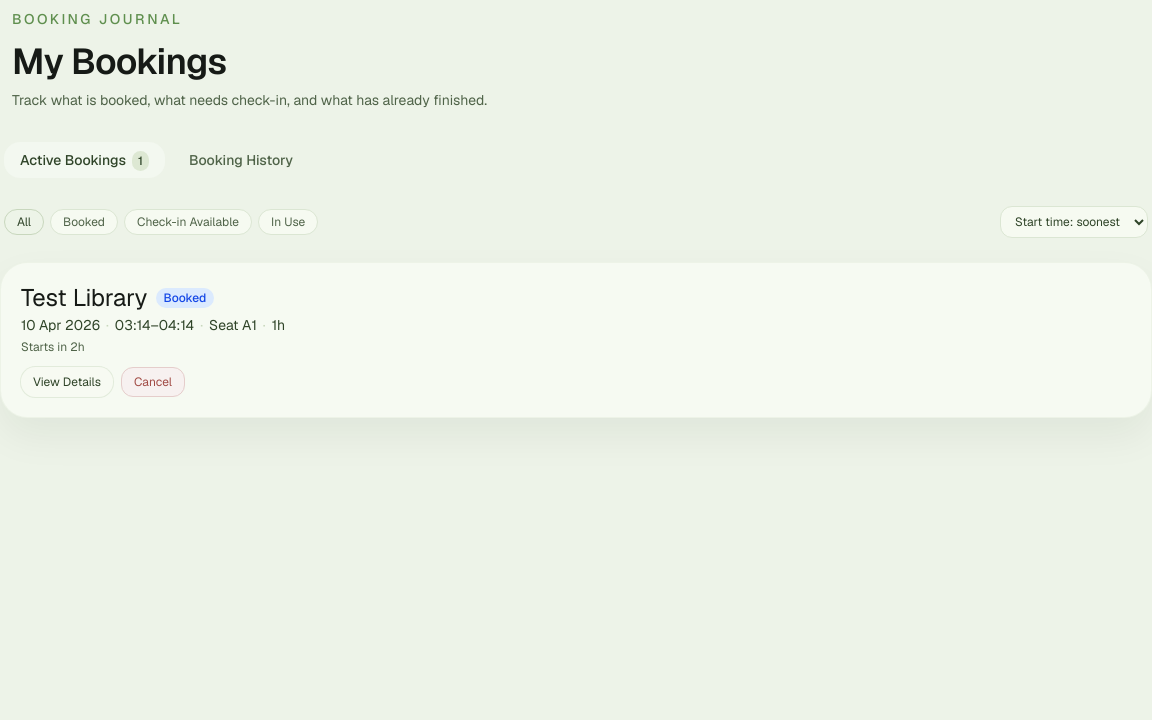
Scenario: BookingsPage › modal Close button dismisses modal
Click the button "View Details" at [67, 382], box [21,367,113,397]
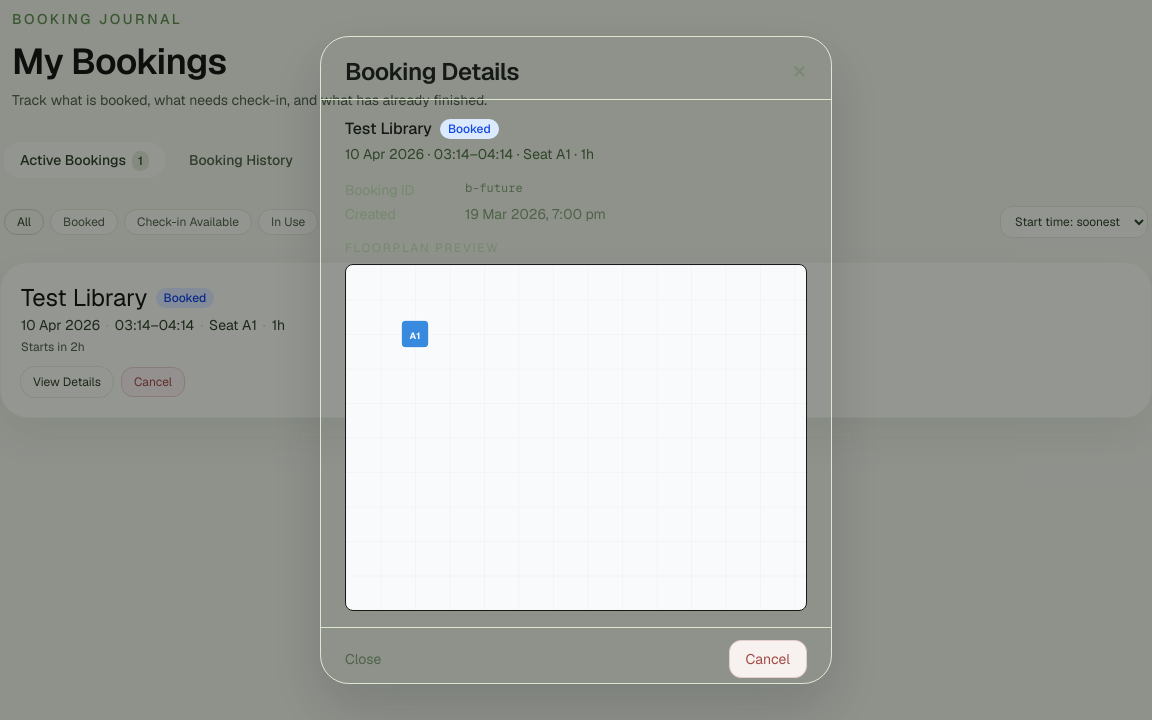
Now the heading "Booking Details" is shown, box [345,57,519,87]
Click the button "Close" at [363, 659], box [345,649,381,669]
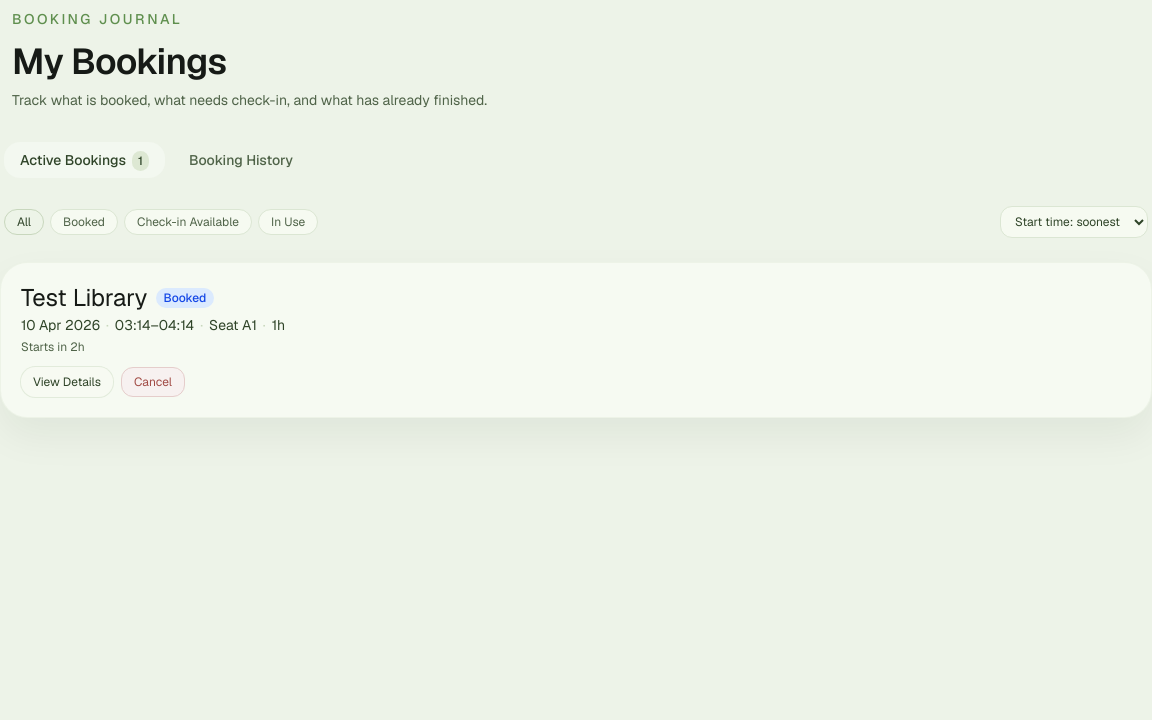
Now the heading "Booking Details" is gone
